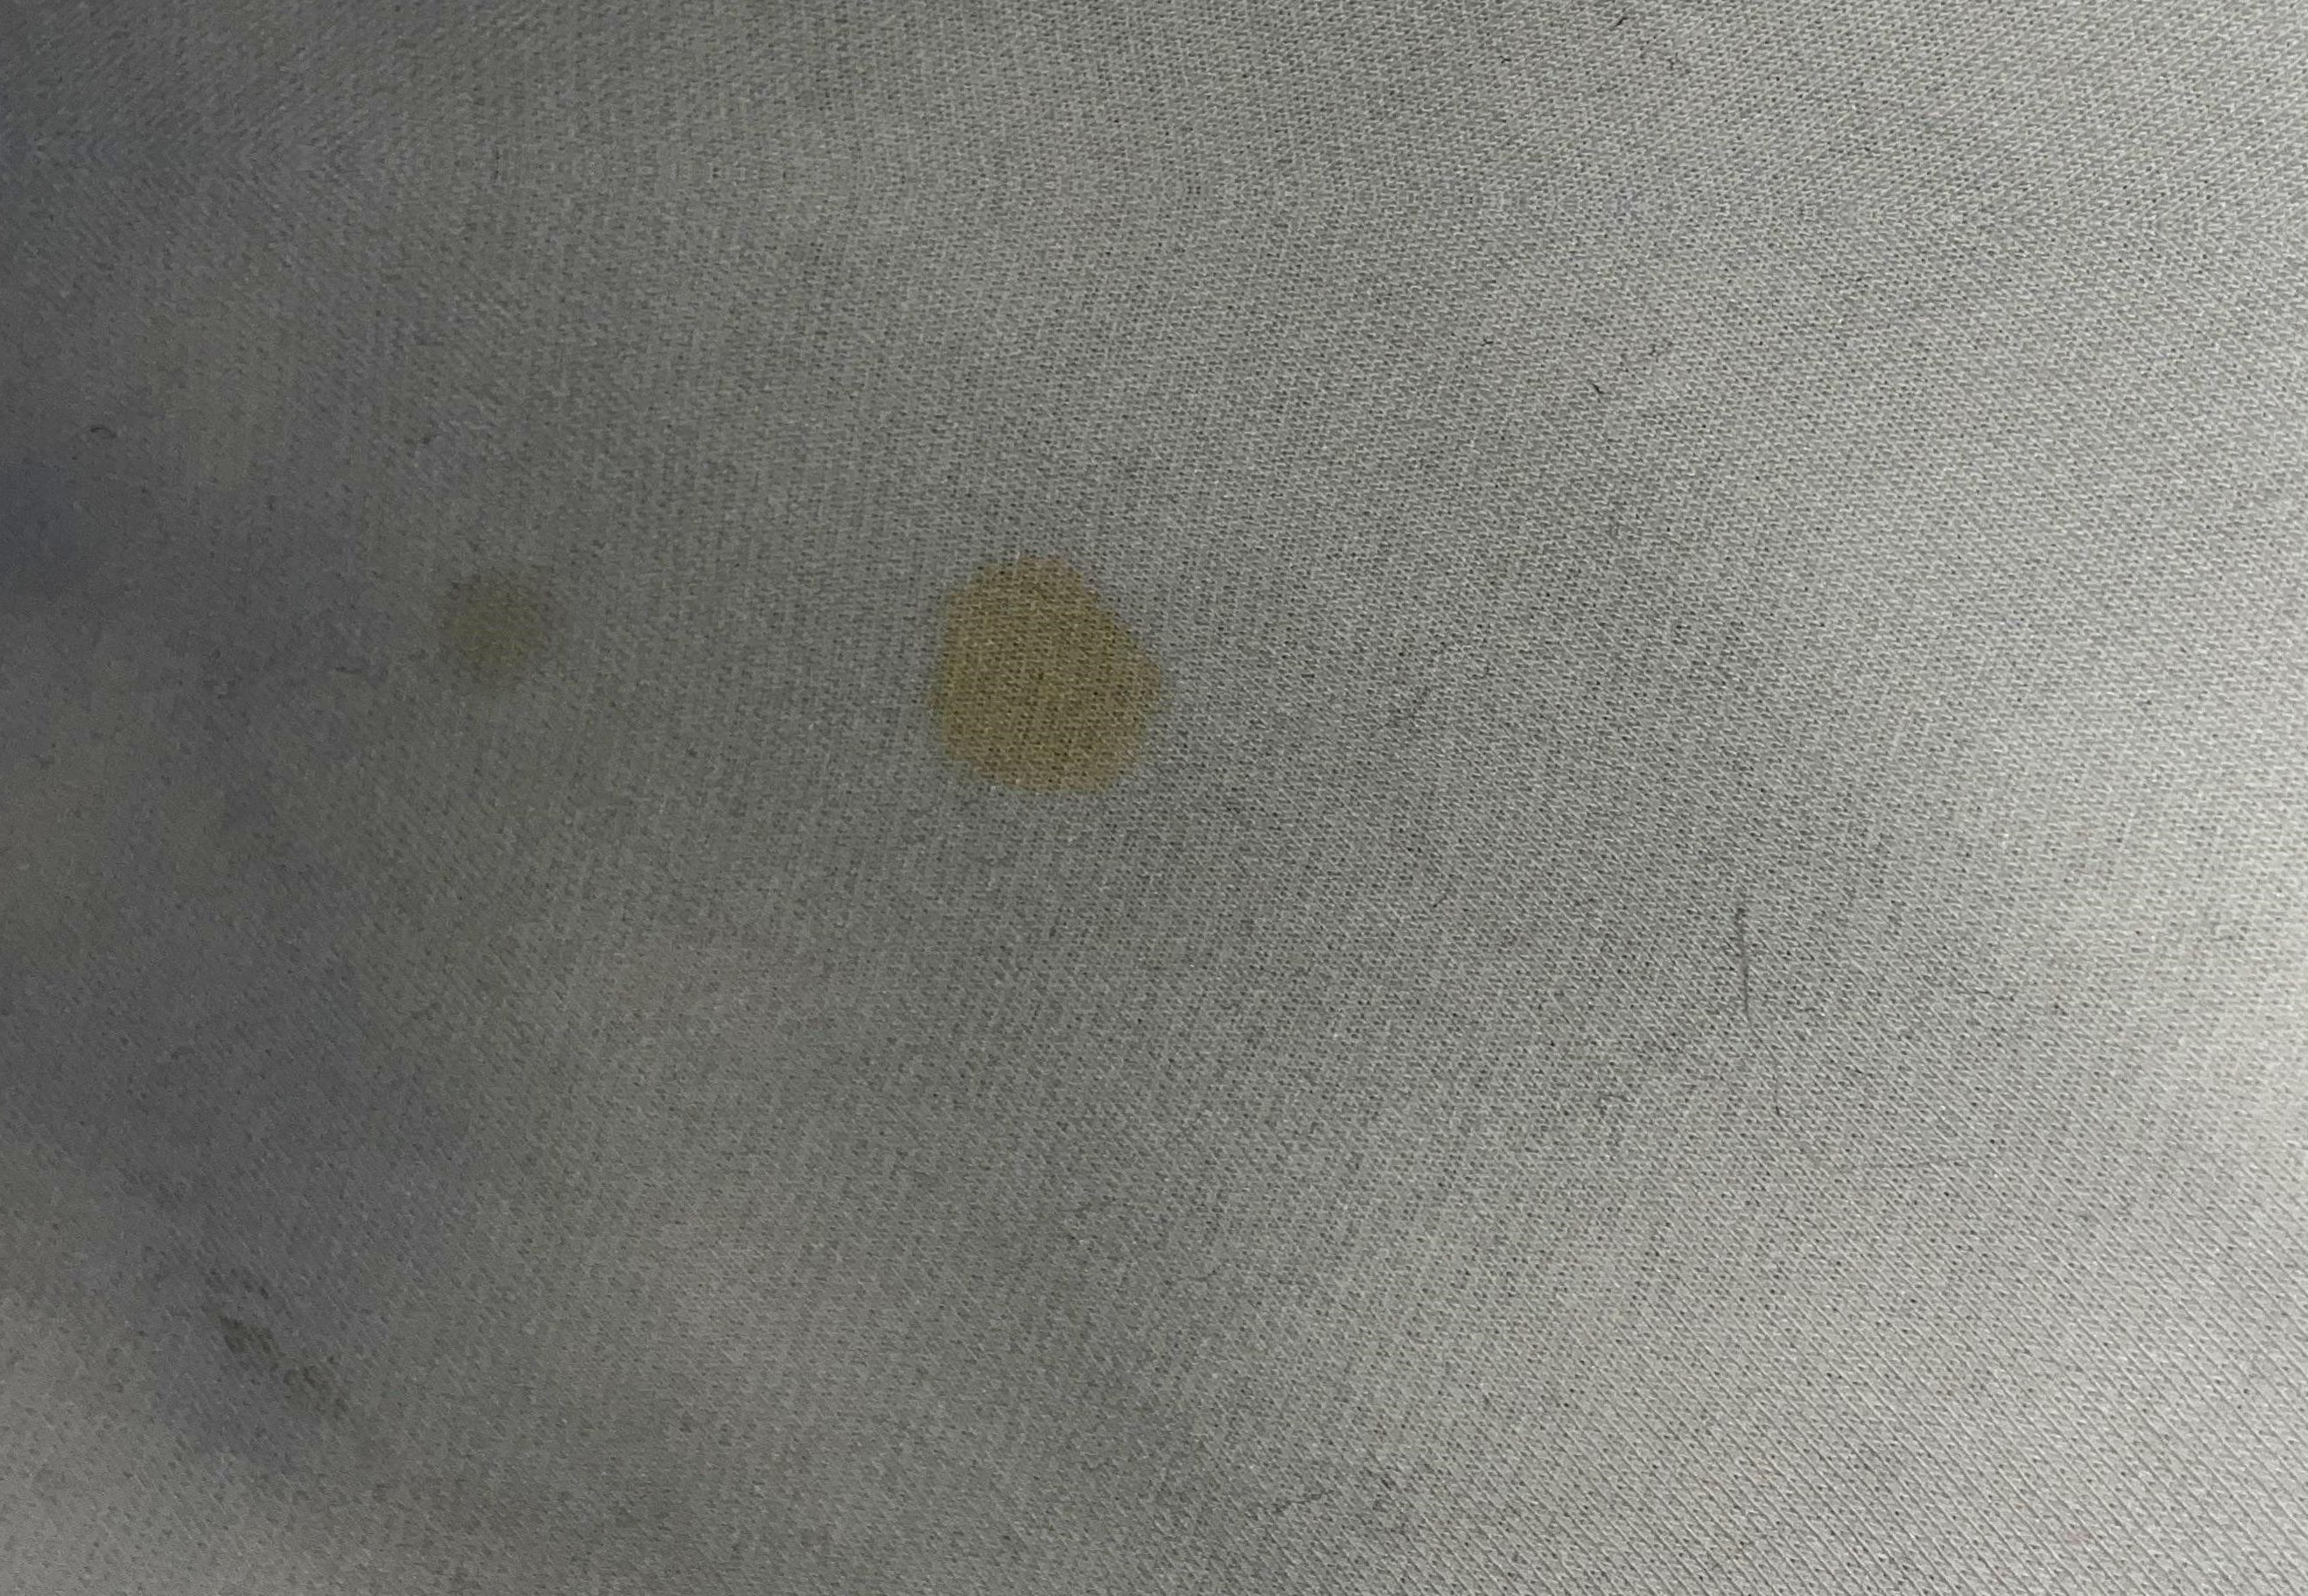stain: (900, 549, 1186, 819), (410, 558, 577, 728)
